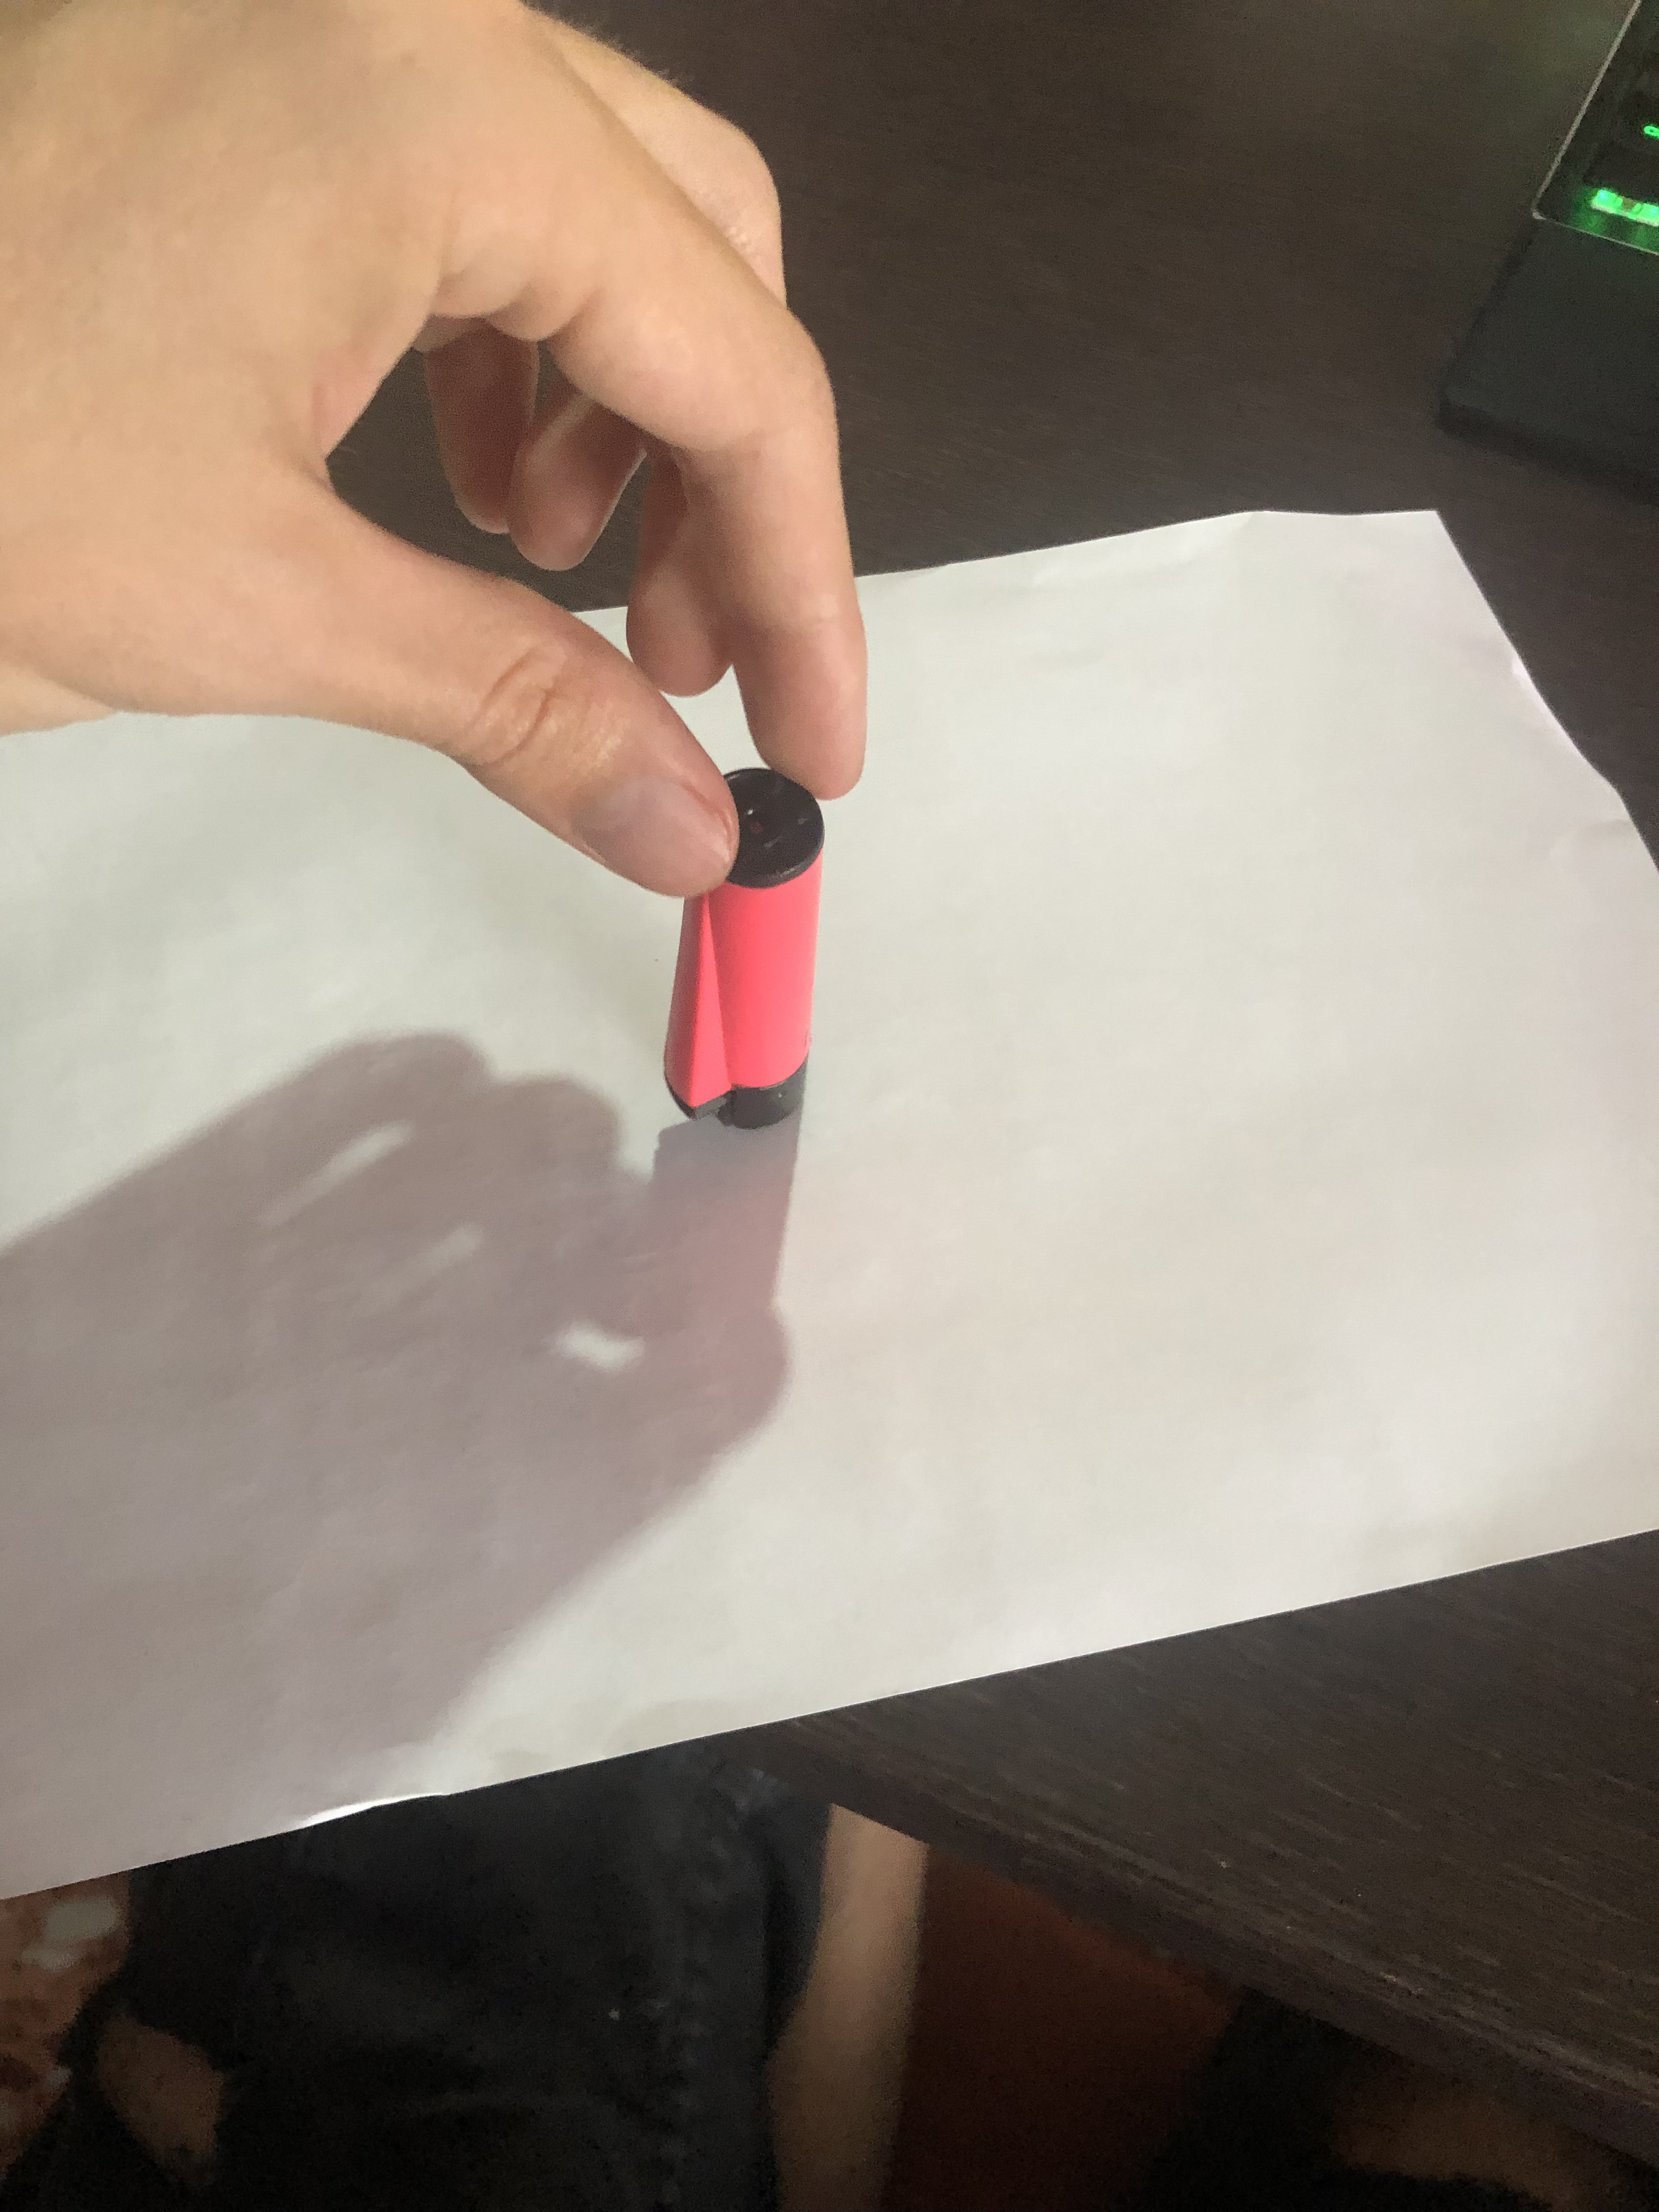Mechero: (638, 761, 852, 1170)
